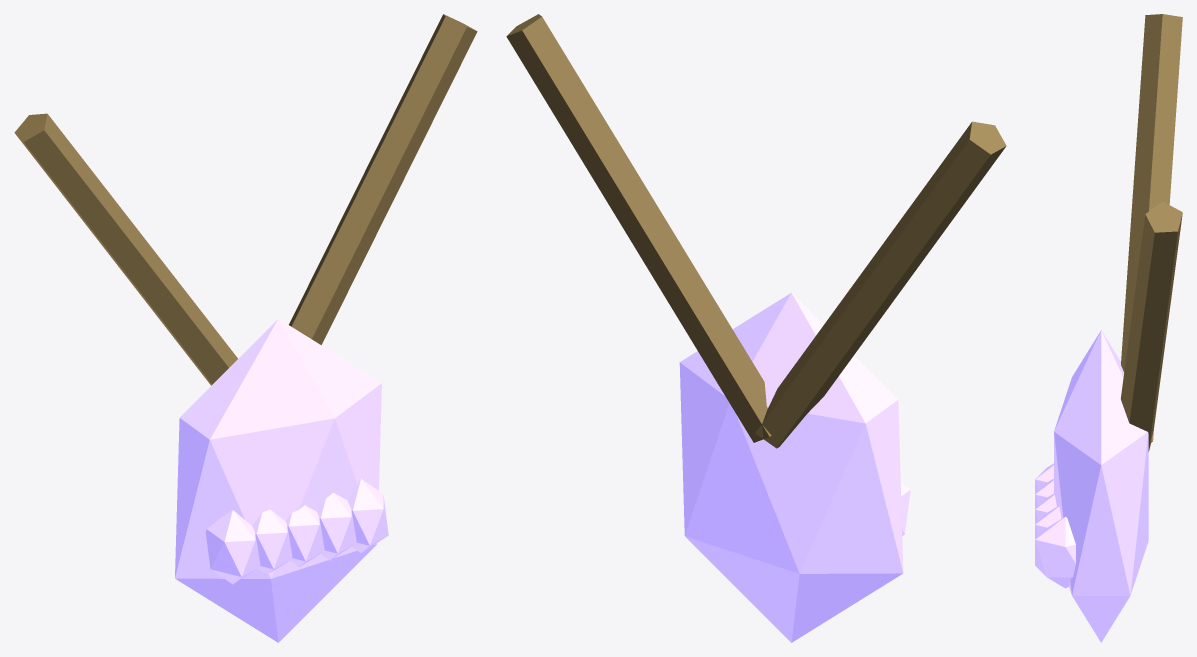
File: gear_necklace.glb
3 renders of one model, left to right at view 1: azimuth 30°, elevation 25°; view 2: azimuth 150°, elevation 25°; view 3: azimuth 270°, elevation 25°, orthographic. The views are drawn at different scales.
Visible parts, largest first — view 1: Moon pendant, Pendant chain.001, Pendant chain, Jewelled setting.010, Jewelled setting.014, Jewelled setting.013, Jewelled setting.011, Jewelled setting.012; view 2: Moon pendant, Pendant chain.001, Pendant chain; view 3: Moon pendant, Pendant chain, Pendant chain.001, Jewelled setting.014, Jewelled setting.013, Jewelled setting.012, Jewelled setting.011, Jewelled setting.010.
Part boxes in pixels (x1,y1,x2,y2): Moon pendant: [175, 319, 381, 642]; Pendant chain.001: [289, 14, 477, 345]; Pendant chain: [14, 113, 237, 385]; Jewelled setting.010: [205, 510, 260, 584]; Jewelled setting.014: [347, 479, 388, 552]; Jewelled setting.013: [317, 492, 356, 560]; Jewelled setting.011: [252, 509, 292, 573]; Jewelled setting.012: [285, 505, 324, 566]; Moon pendant: [679, 293, 903, 642]; Pendant chain.001: [506, 14, 771, 442]; Pendant chain: [755, 121, 1006, 448]; Moon pendant: [1054, 330, 1148, 642]; Pendant chain: [1121, 14, 1182, 442]; Pendant chain.001: [1120, 201, 1182, 451]; Jewelled setting.014: [1035, 517, 1075, 588]; Jewelled setting.013: [1035, 506, 1061, 539]; Jewelled setting.012: [1035, 493, 1056, 524]; Jewelled setting.011: [1035, 478, 1053, 509]; Jewelled setting.010: [1035, 463, 1053, 494].
Size of the model in its own units: 0.2548 by 0.2976 by 0.0744.
